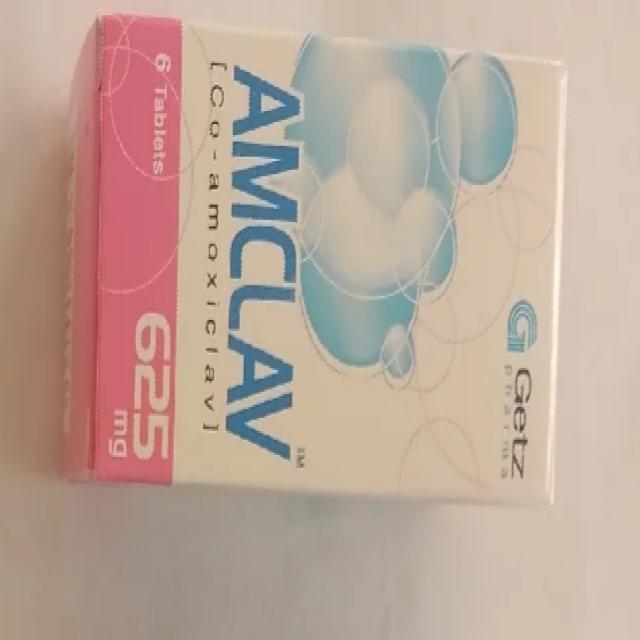drug-name: (225, 59, 304, 462)
